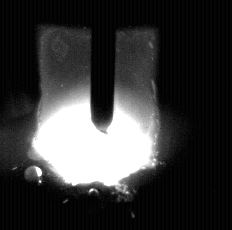arame: (91, 0, 115, 134)
poca: (35, 0, 158, 230)
